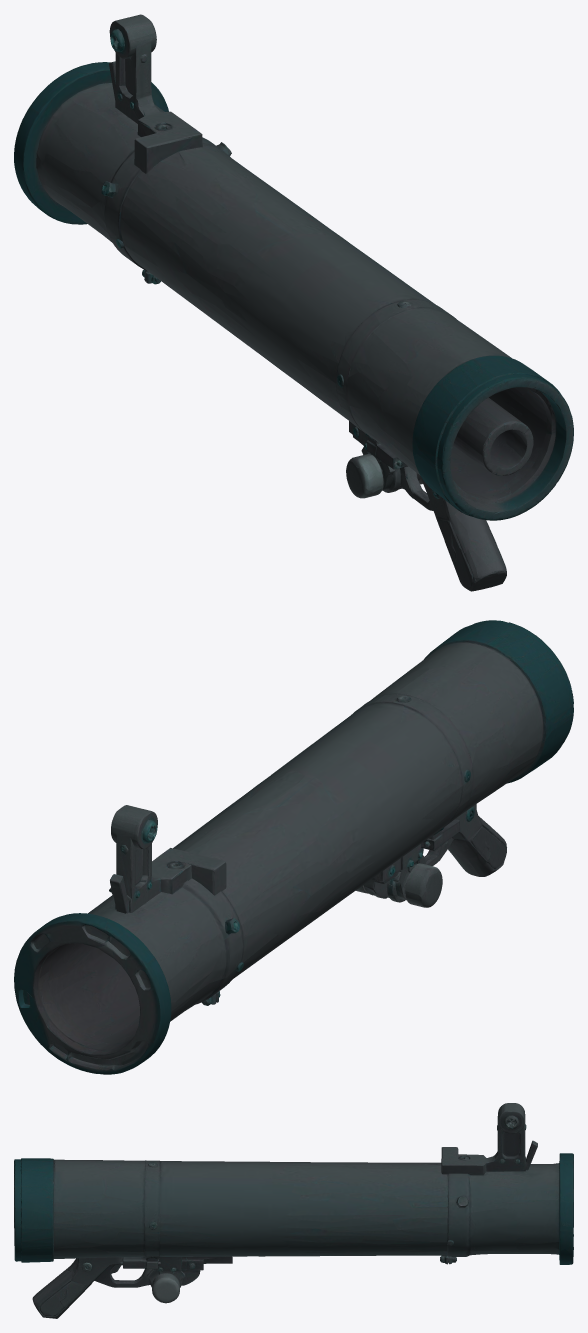
Rendered from rocket-launcher.glb.
3 renders of one model, top to bottom at view 1: azimuth 30°, elevation 25°; view 2: azimuth 150°, elevation 25°; view 3: azimuth 270°, elevation 25°, orthographic. The views are drawn at different scales.
Parts seen in each view (by area): view 1: rocket-launcher; view 2: rocket-launcher; view 3: rocket-launcher.
Boxes of the visible parts, x1,y1,x2,y2 form: rocket-launcher: (14, 14, 573, 591); rocket-launcher: (14, 620, 573, 1074); rocket-launcher: (14, 1103, 573, 1318).
Bounding box in the file's own units: 0.2075 × 0.4211 × 1.02.
1 material, 1 textured.
